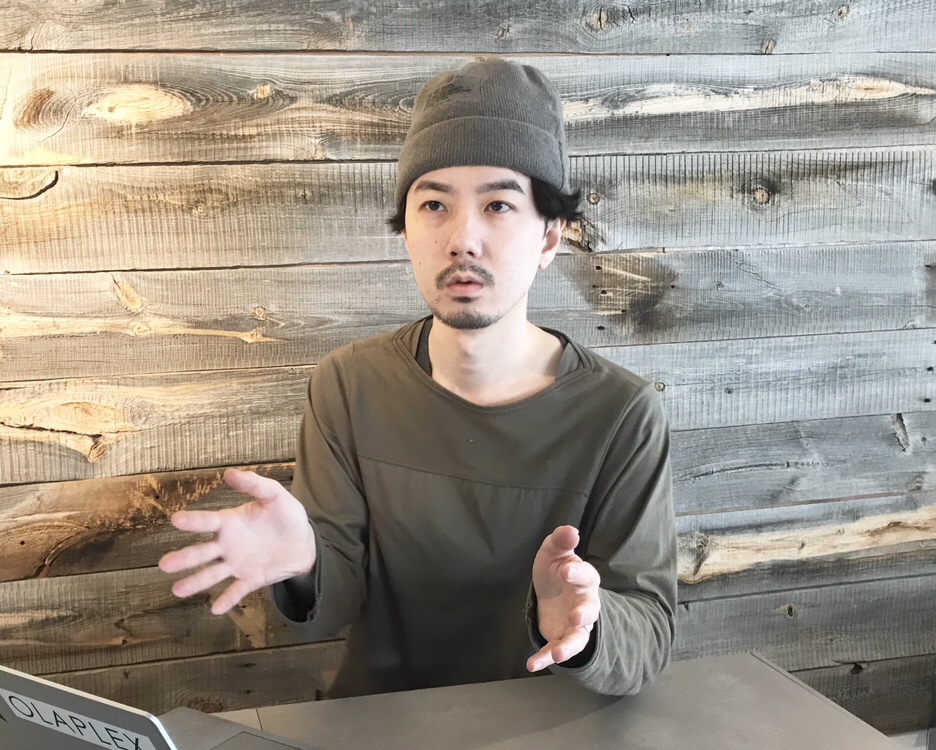face: (406, 164, 565, 328)
hand: (156, 465, 317, 614), (524, 523, 602, 672)
